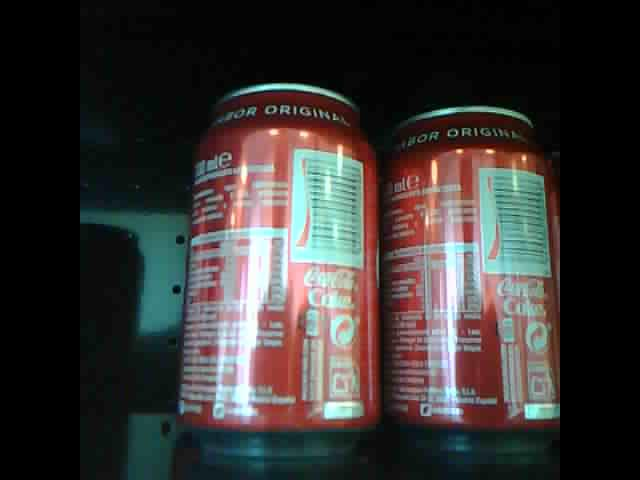coca cola: (176, 81, 382, 456), (387, 107, 559, 448)
